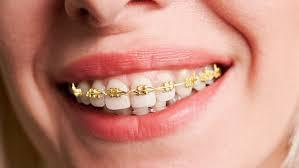Braces: (66, 65, 223, 99)
